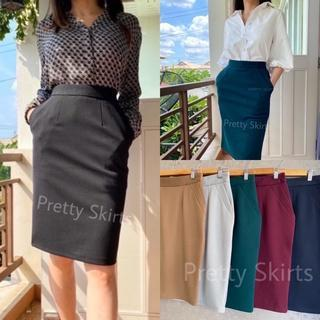shirt: (25, 13, 154, 104), (214, 5, 302, 70)
skirt: (26, 91, 145, 276), (211, 60, 281, 163)
